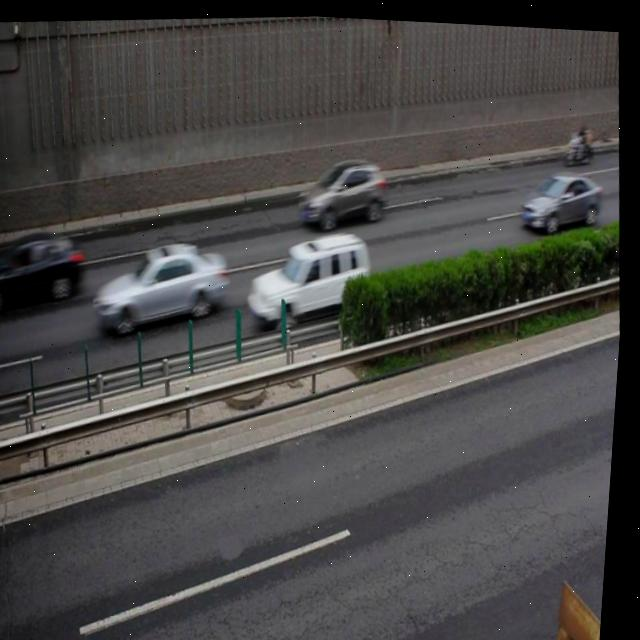car: (92, 236, 234, 337), (0, 223, 88, 310), (299, 150, 392, 230), (517, 163, 604, 225)
truck: (248, 225, 377, 324)
